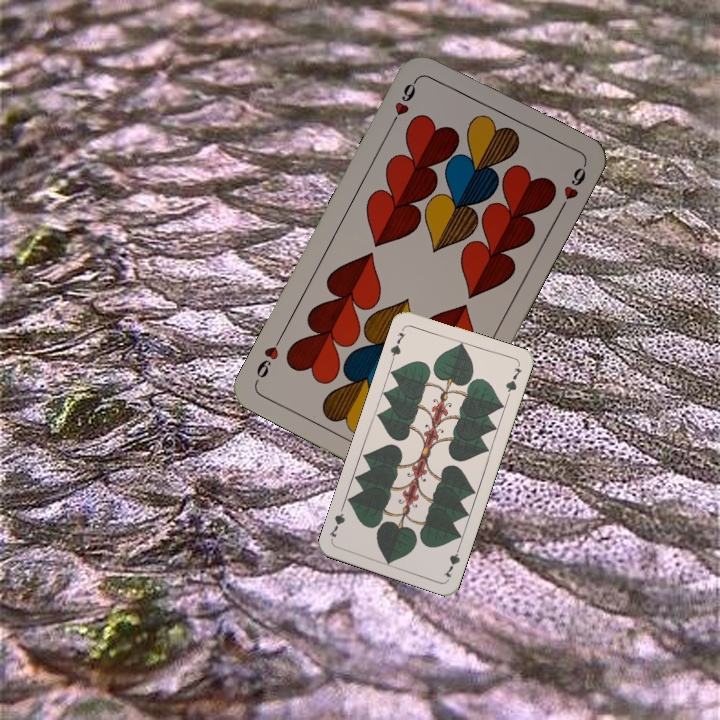G7: (439, 541, 463, 580), (386, 328, 408, 363)
H9: (387, 74, 421, 129)
